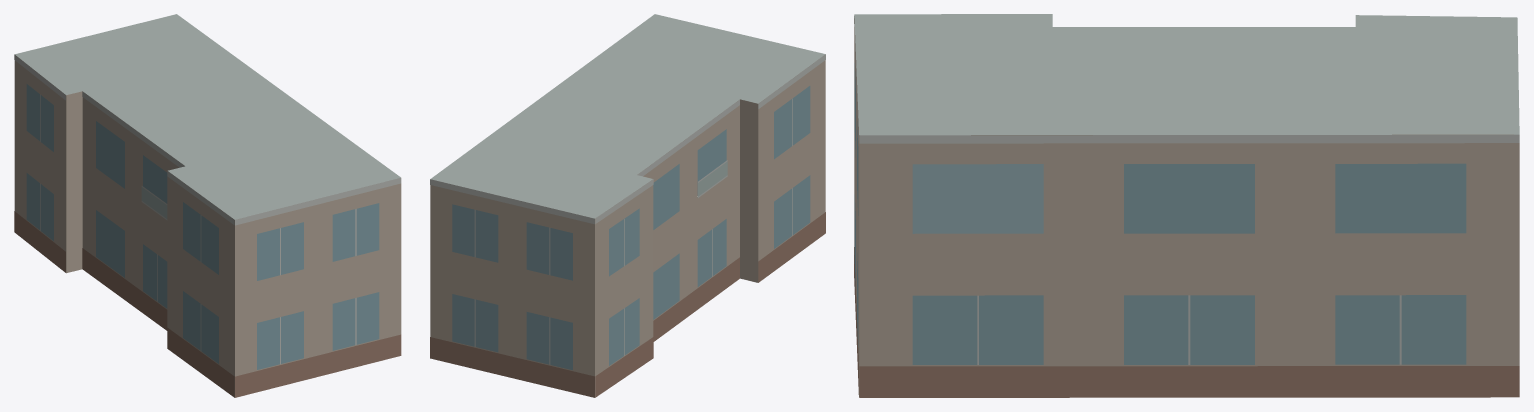
File: survey-upis-32632088.glb
3 renders of one model, left to right at view 1: azimuth 30°, elevation 25°; view 2: azimuth 150°, elevation 25°; view 3: azimuth 270°, elevation 25°, orthographic. The views are drawn at different scales.
Parts seen in each view (by area): view 1: survey-upis-32632088.tmp; view 2: survey-upis-32632088.tmp; view 3: survey-upis-32632088.tmp.
Boxes of the visible parts, x1,y1,x2,y2 form: survey-upis-32632088.tmp: (14,14,401,397); survey-upis-32632088.tmp: (430,14,825,397); survey-upis-32632088.tmp: (854,14,1519,397).
Bounding box in the file's own units: 7.53 × 7.6 × 17.46.
